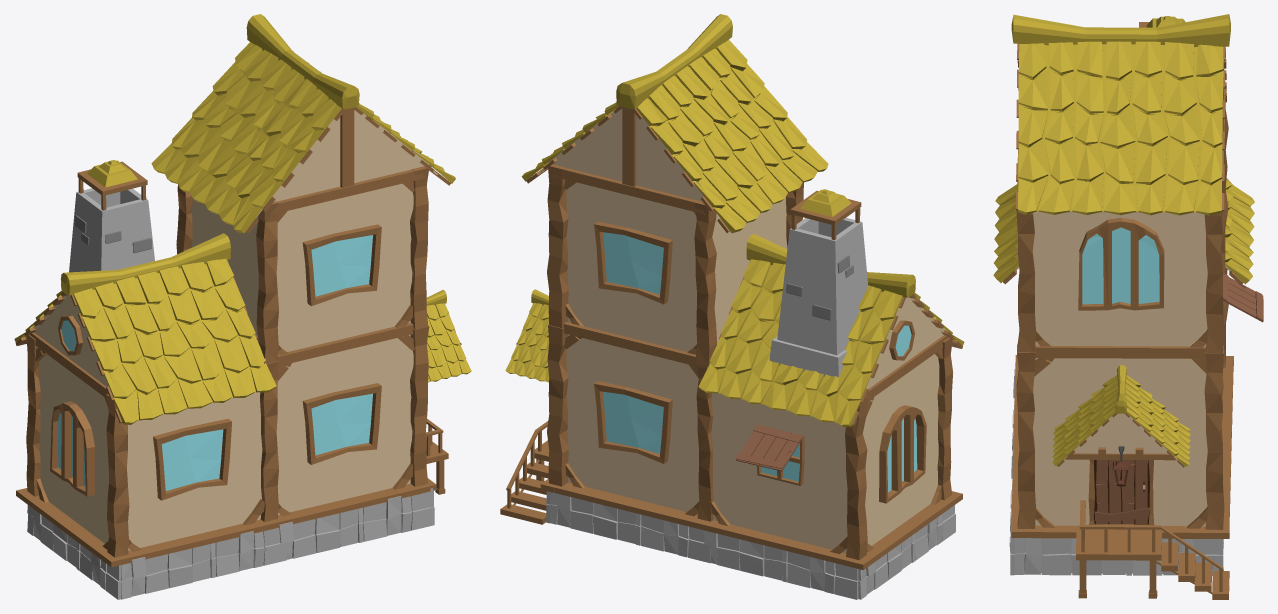
Rendered from House2.fbx.
3 renders of one model, left to right at view 1: azimuth 30°, elevation 25°; view 2: azimuth 150°, elevation 25°; view 3: azimuth 270°, elevation 25°, orthographic. The views are drawn at different scales.
Visible parts, largest first — view 1: House2; view 2: House2; view 3: House2.
Boxes of the visible parts, x1,y1,x2,y2 form: House2: (14, 14, 471, 599); House2: (500, 14, 964, 599); House2: (993, 14, 1263, 599).
Size of the model in its own units: 4375 by 4870 by 2316.
